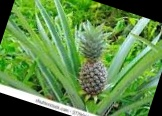Pineapple: (76, 20, 111, 96)
